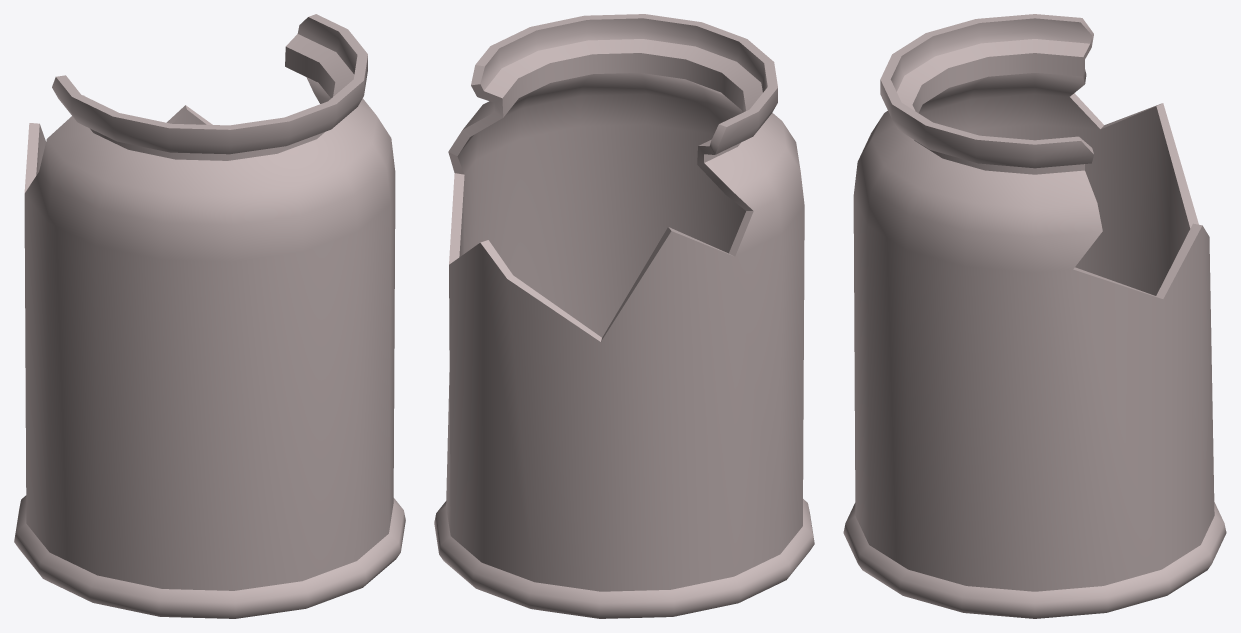
File: Frasco_05.fbx
The picture shows the model from 3 angles, left to right: view 1: azimuth 30°, elevation 25°; view 2: azimuth 150°, elevation 25°; view 3: azimuth 270°, elevation 25°; orthographic projection. The views are drawn at different scales.
Parts seen in each view (by area): view 1: Frasco_05; view 2: Frasco_05; view 3: Frasco_05.
Boxes of the visible parts, bbox=[...] form: Frasco_05: bbox=[14, 14, 405, 618]; Frasco_05: bbox=[434, 14, 814, 618]; Frasco_05: bbox=[843, 14, 1226, 618].
Bounding box in the file's own units: 25.91 × 34.73 × 25.91.
